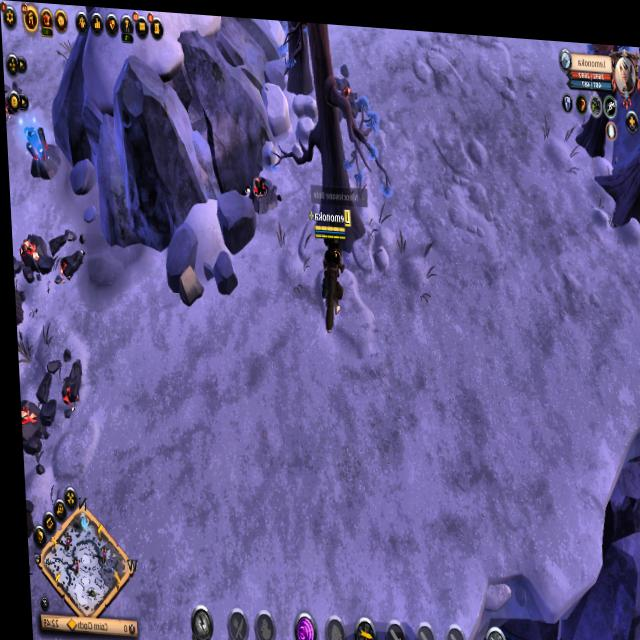ore tier 5: (21, 114, 59, 181)
rock tier 1: (171, 261, 204, 307)
